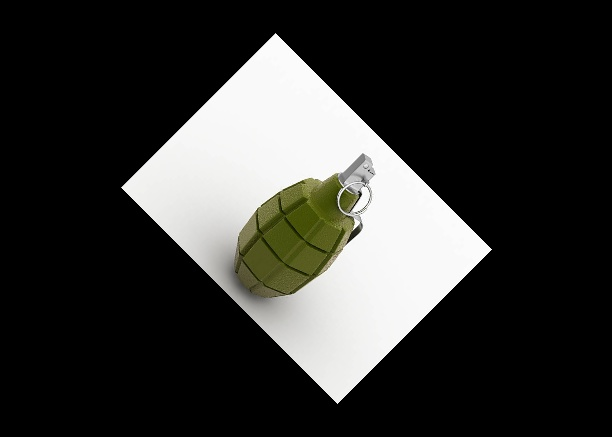e1: (232, 151, 376, 299)
